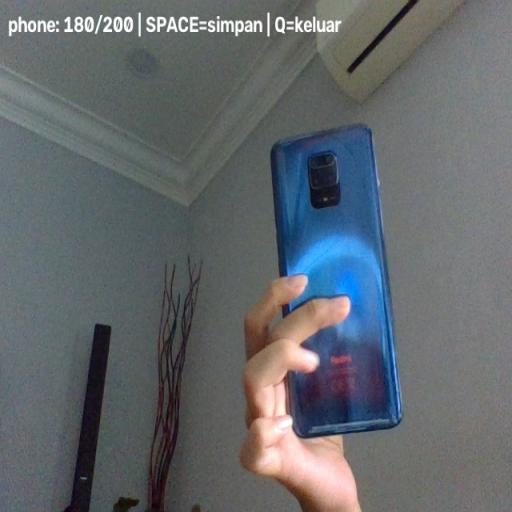Phone: (272, 124, 402, 438)
